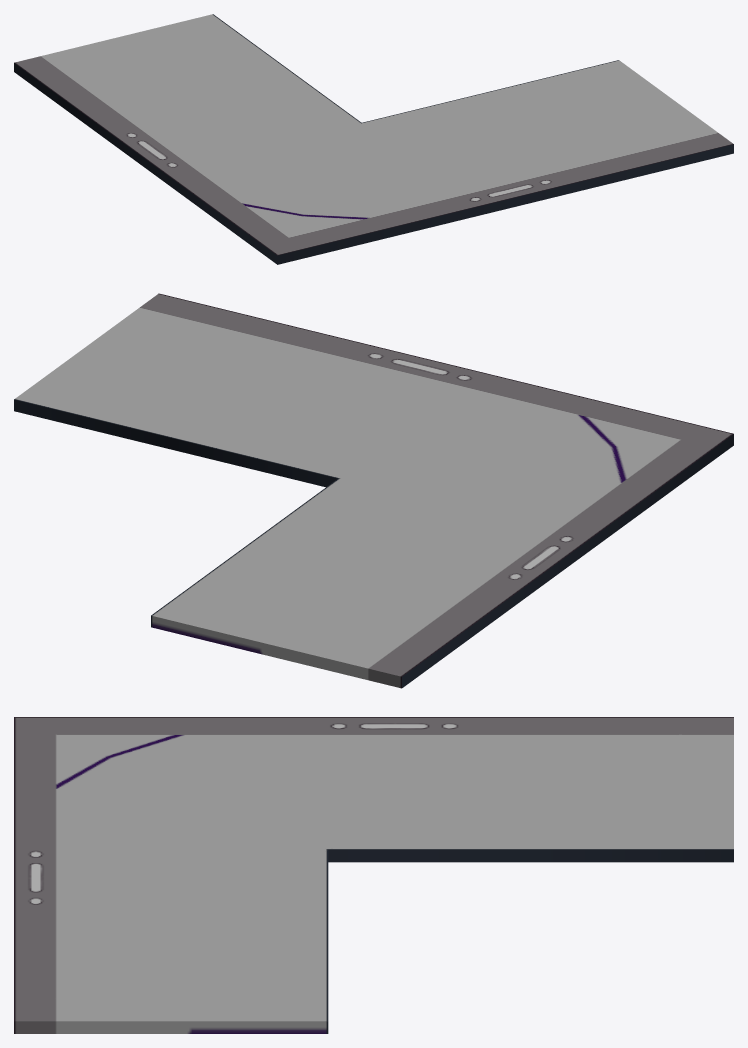
Rendered from KF_SM_LSideW007.fbx.
3 renders of one model, top to bottom at view 1: azimuth 30°, elevation 25°; view 2: azimuth 150°, elevation 25°; view 3: azimuth 270°, elevation 25°, orthographic. The views are drawn at different scales.
Visible parts, largest first — view 1: KF_SM_LSideW007; view 2: KF_SM_LSideW007; view 3: KF_SM_LSideW007.
Part boxes in pixels (x1,y1,x2,y2): KF_SM_LSideW007: (14, 14, 733, 264); KF_SM_LSideW007: (14, 293, 733, 688); KF_SM_LSideW007: (14, 717, 733, 1033).
Size of the model in its own units: 2567 by 50 by 2567.
1 material, 1 textured.
